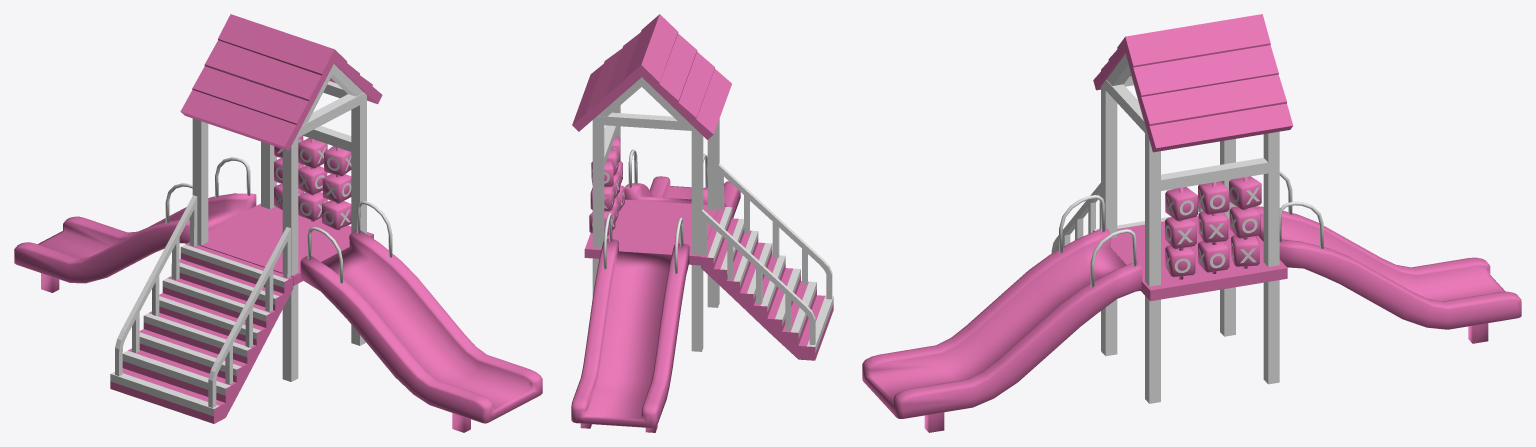
File: model3-pink.glb
3 renders of one model, left to right at view 1: azimuth 30°, elevation 25°; view 2: azimuth 150°, elevation 25°; view 3: azimuth 270°, elevation 25°, orthographic. The views are drawn at different scales.
Visible parts, largest first — view 1: model3-pink; view 2: model3-pink; view 3: model3-pink.
Boxes of the visible parts, x1=… form: model3-pink: x1=14, y1=14, x2=542, y2=432; model3-pink: x1=571, y1=14, x2=833, y2=432; model3-pink: x1=862, y1=14, x2=1521, y2=432.
Bounding box in the file's own units: 3.12 × 3.08 × 5.32.
